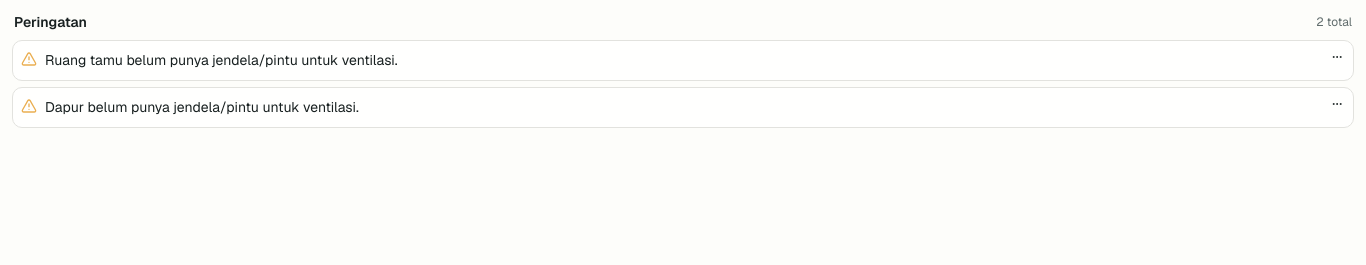
Test: EditorWarningsList › Take note → isi catatan → Simpan catatan menampilkan catatannya
Press the mouse on the 1st button named "Aksi peringatan" at (1337, 57), box [1325,45,1349,69]
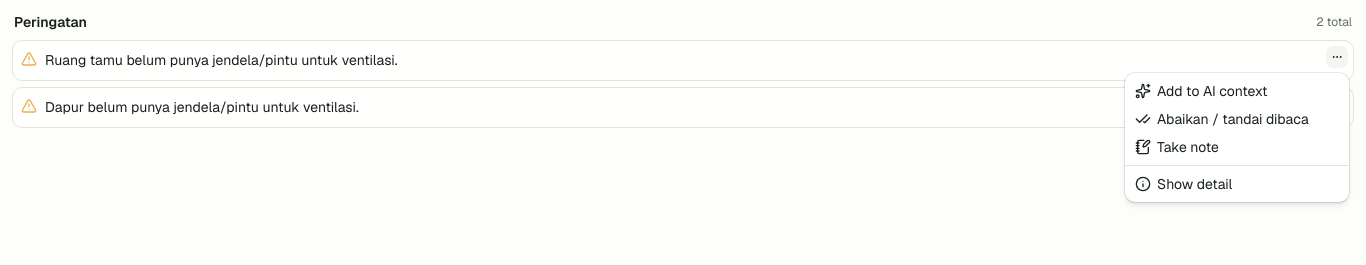
Click the menu item "Take note" at (1177, 147), box [1135,138,1219,156]
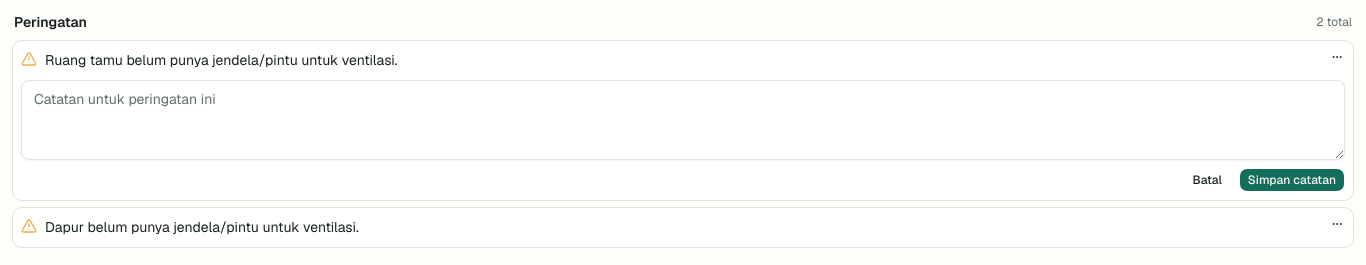
Type "Cek bersama engineer." into the text box named "Catatan peringatan" at (683, 120), box [21,80,1345,160]
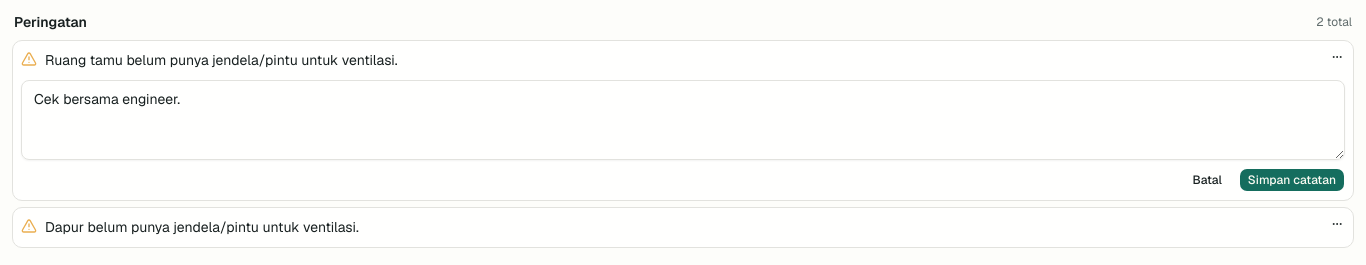
Click the button "Simpan catatan" at (1292, 180), box [1239,168,1345,192]
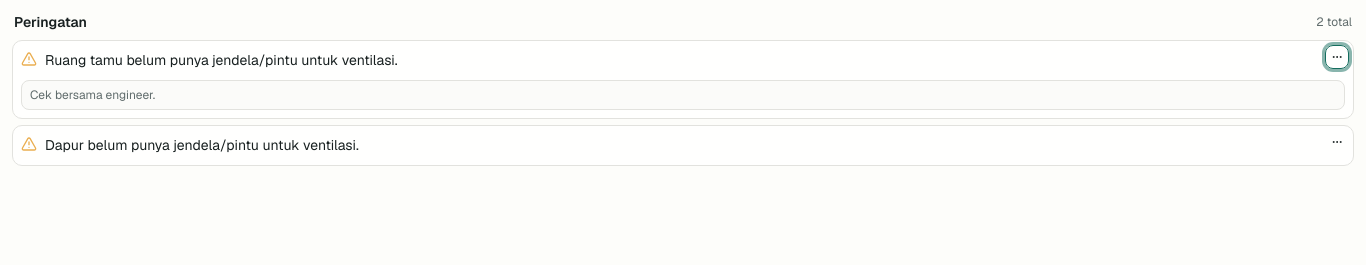
Now the text "Cek bersama engineer." is shown, box [21,80,1345,110]
